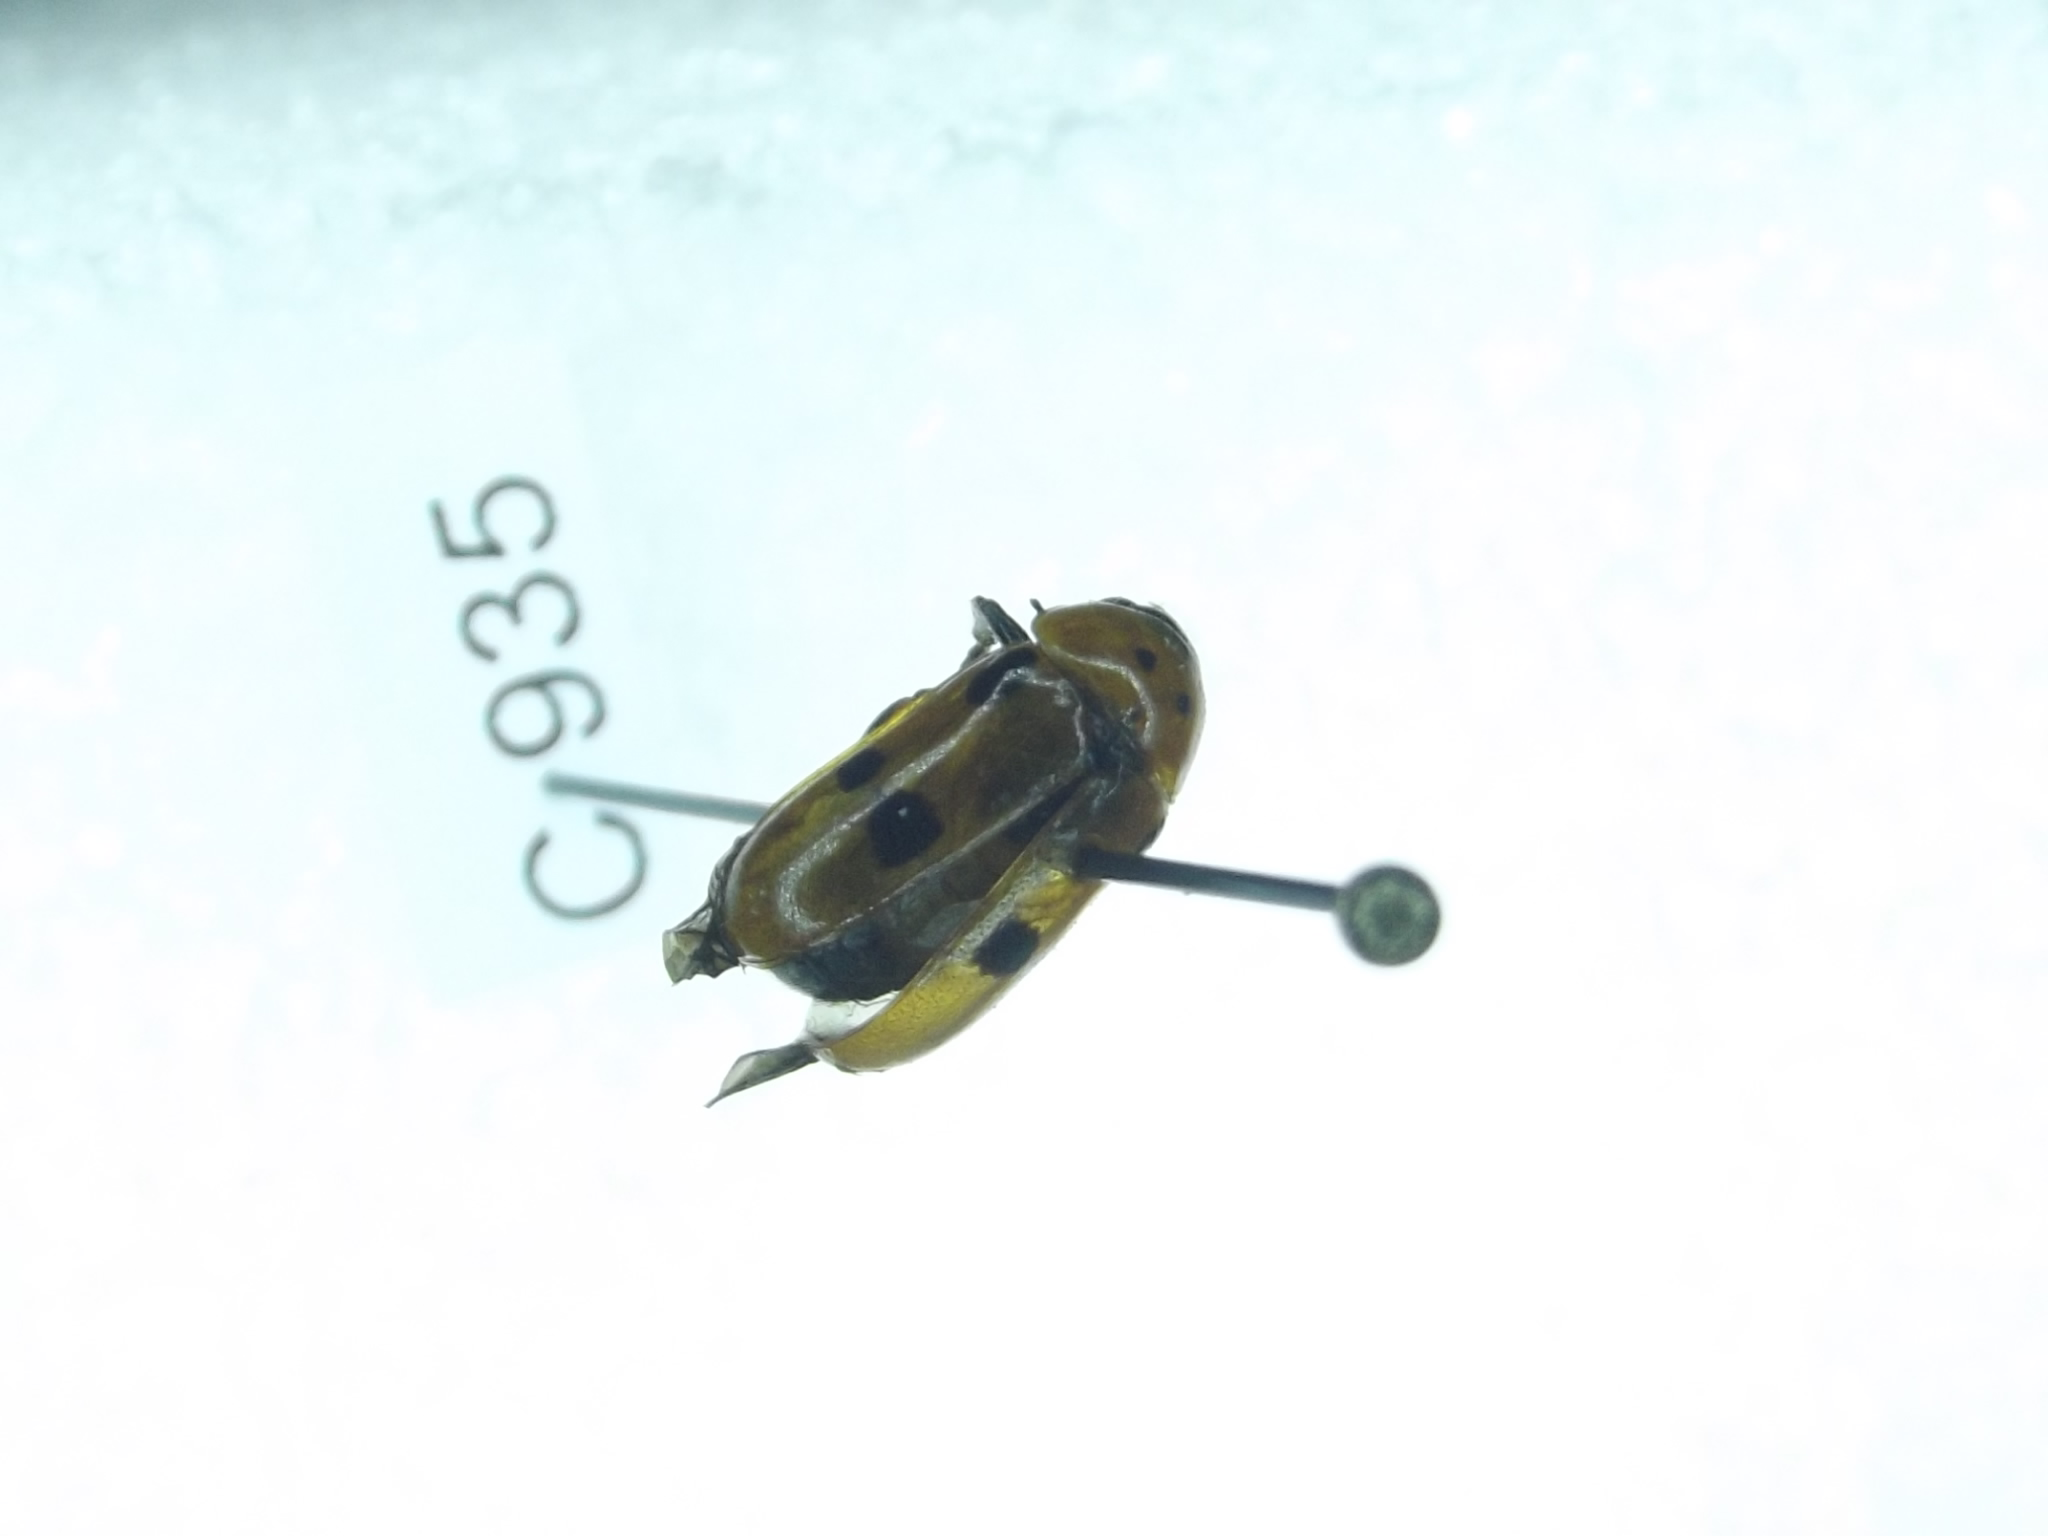Clytra_novempunctata: (618, 550, 1234, 1115)
